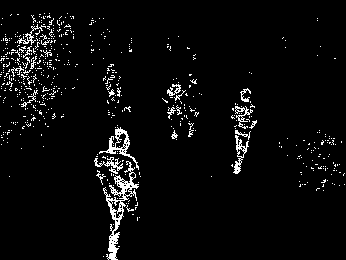person: (92, 128, 142, 260), (235, 87, 257, 177), (160, 78, 186, 144), (185, 74, 207, 144), (99, 61, 125, 117)
